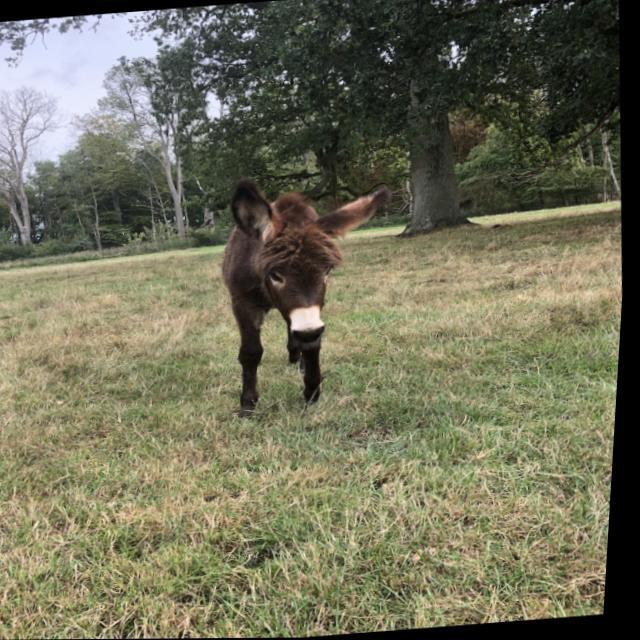Donkey: (208, 164, 412, 420)
